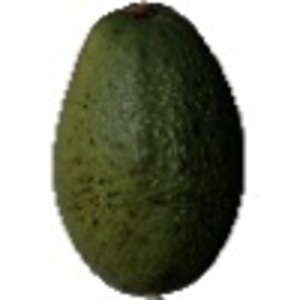abacate: (49, 2, 248, 294)
